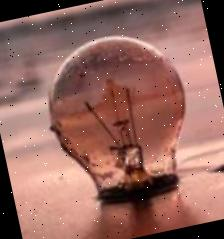lightbulb: (32, 21, 204, 214)
